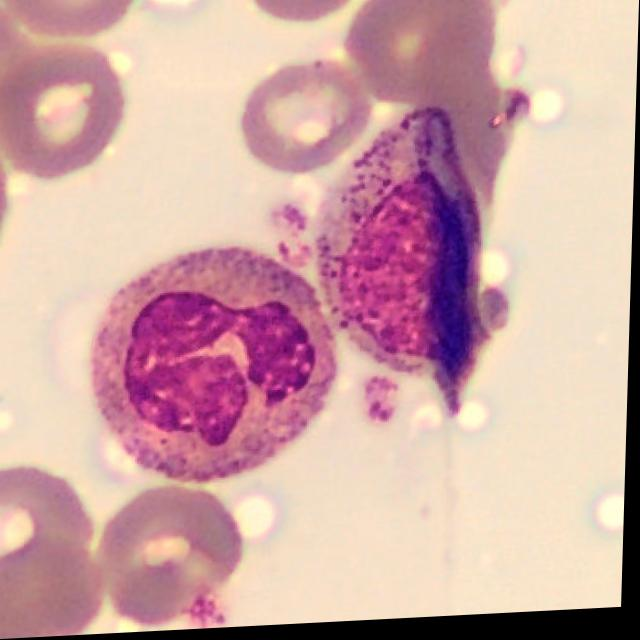Neutrofilo segmentado: (92, 243, 340, 487)
